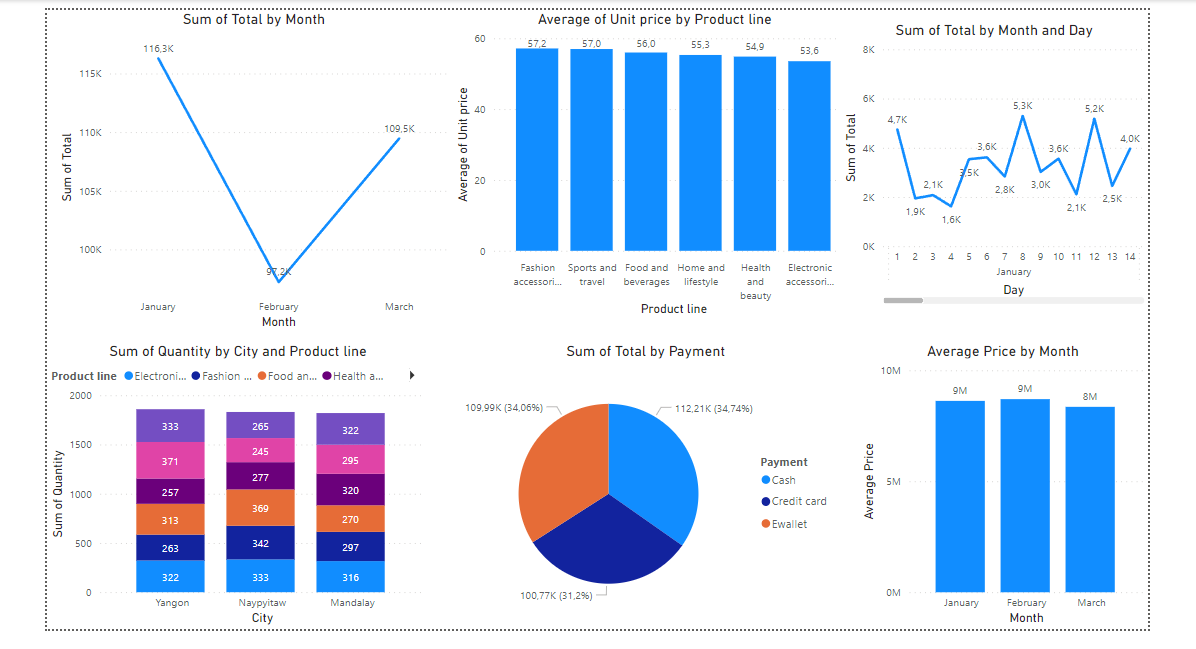

The page's visual inventory and layout, read from the dashboard file:
{"tool":"powerbi","page":{"name":"Page 1","canvas":[1280,720],"ordinal":0},"visuals":[{"type":"lineChart","fields":{"Category":["supermarket_sales - Sheet1.Date.Variation.Date Hierarchy.Month"],"Y":["Sum(supermarket_sales - Sheet1.Total)"]},"box":[10.3,0,460.3,375.9],"z":0},{"type":"columnChart","fields":{"Category":["supermarket_sales - Sheet1.Product line"],"Y":["Avg(supermarket_sales - Sheet1.Unit price)"]},"box":[470.5,0,471.6,360],"z":1000},{"type":"lineChart","fields":{"Category":["supermarket_sales - Sheet1.Date.Variation.Date Hierarchy.Month","supermarket_sales - Sheet1.Date.Variation.Date Hierarchy.Day"],"Y":["Sum(supermarket_sales - Sheet1.Total)"]},"box":[921.6,12.5,358.9,333.8],"z":2000},{"type":"columnChart","fields":{"Category":["supermarket_sales - Sheet1.City"],"Y":["Sum(supermarket_sales - Sheet1.Quantity)"],"Series":["supermarket_sales - Sheet1.Product line"]},"box":[0,386.2,444.3,333.8],"z":3000},{"type":"pieChart","fields":{"Y":["Sum(supermarket_sales - Sheet1.Total)"],"Series":["supermarket_sales - Sheet1.Payment"]},"box":[471.2,386.4,450.6,333.8],"z":4000},{"type":"columnChart","fields":{"Category":["supermarket_sales - Sheet1.Date.Variation.Date Hierarchy.Month"],"Y":["Currency.Average Price"]},"box":[943,386,337,334],"z":5000}]}

Visuals, with their boxes on the page's 1280x720 design canvas (x1, y1, x2, y2). These are canvas units, not pixel positions in the 1196x649 screenshot, which may show the page scaled, cropped or inside an application window:
lineChart - supermarket_sales - Sheet1.Date.Variation.Date Hierarchy.Month x Sum(supermarket_sales - Sheet1.Total): (x1=10, y1=0, x2=471, y2=376)
columnChart - supermarket_sales - Sheet1.Product line x Avg(supermarket_sales - Sheet1.Unit price): (x1=470, y1=0, x2=942, y2=360)
lineChart - supermarket_sales - Sheet1.Date.Variation.Date Hierarchy.Month x supermarket_sales - Sheet1.Date.Variation.Date Hierarchy.Day: (x1=922, y1=12, x2=1280, y2=346)
columnChart - supermarket_sales - Sheet1.City x Sum(supermarket_sales - Sheet1.Quantity): (x1=0, y1=386, x2=444, y2=720)
pieChart - Sum(supermarket_sales - Sheet1.Total) x supermarket_sales - Sheet1.Payment: (x1=471, y1=386, x2=922, y2=720)
columnChart - supermarket_sales - Sheet1.Date.Variation.Date Hierarchy.Month x Currency.Average Price: (x1=943, y1=386, x2=1280, y2=720)
